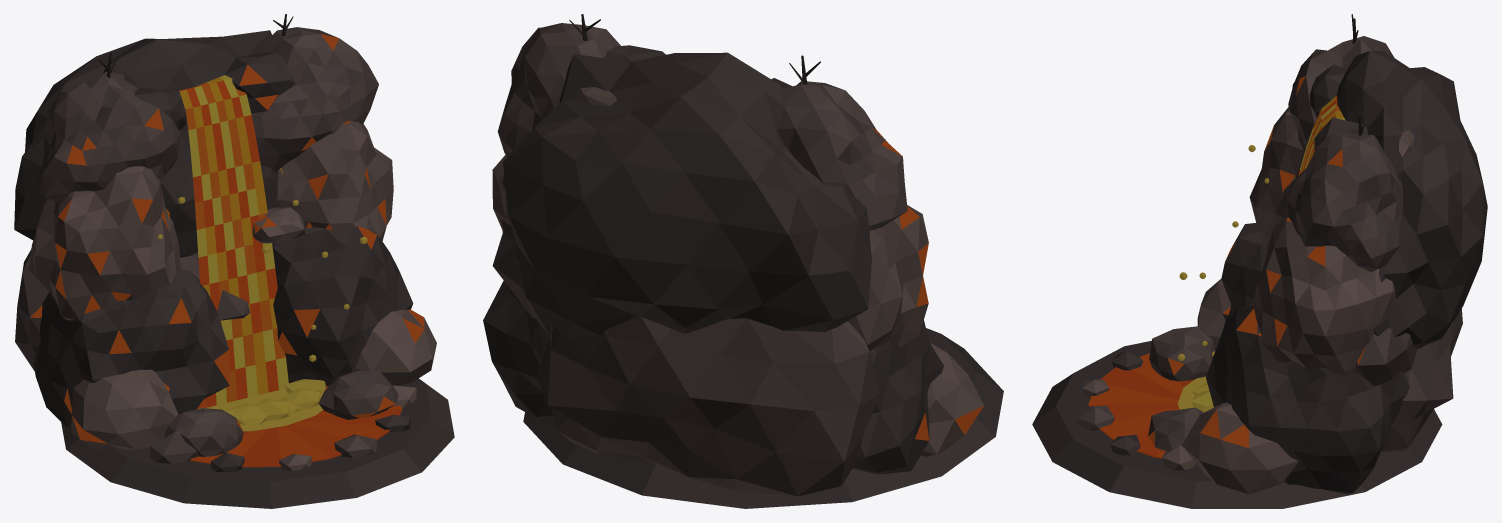
Rendered from lava-fall.glb.
3 renders of one model, left to right at view 1: azimuth 30°, elevation 25°; view 2: azimuth 150°, elevation 25°; view 3: azimuth 270°, elevation 25°, orthographic. The views are drawn at different scales.
Visible parts, largest first — view 1: lava-fall; view 2: lava-fall; view 3: lava-fall.
Part boxes in pixels (<box>): lava-fall: <box>14,14,454,508</box>; lava-fall: <box>483,14,1003,508</box>; lava-fall: <box>1032,14,1487,508</box>.
Bounding box in the file's own units: 35.79 × 34.01 × 38.87.
Materials: 2 (2 with a texture image).
